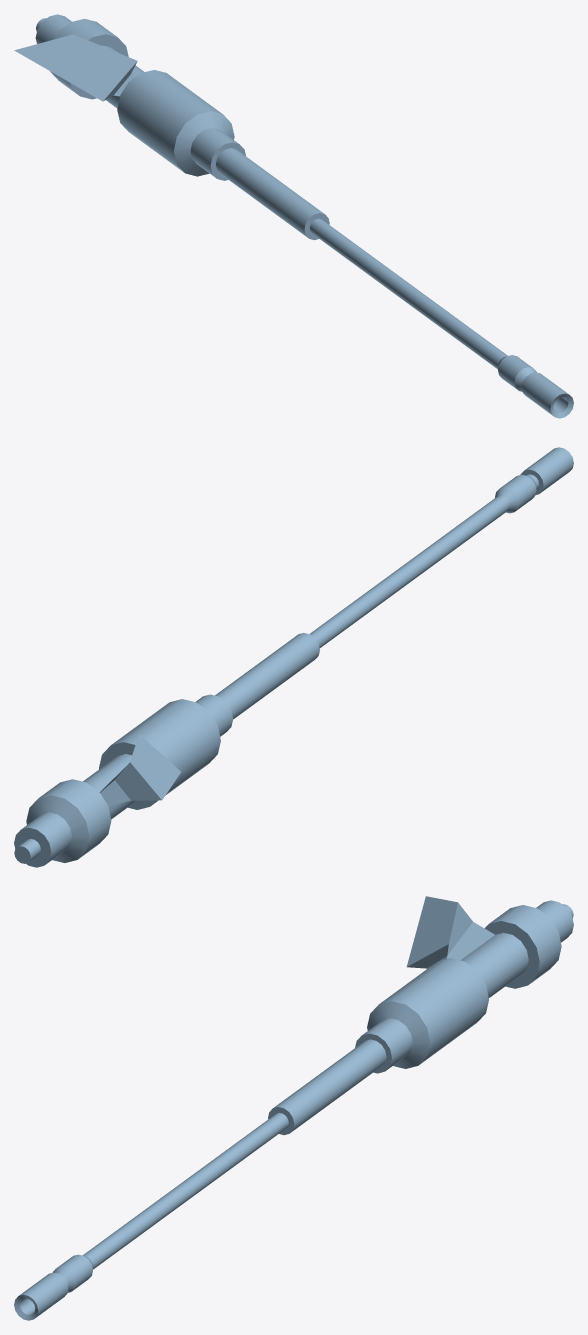
File: gun Dwn L.FBX
The picture shows the model from 3 angles, top to bottom: view 1: azimuth 30°, elevation 25°; view 2: azimuth 150°, elevation 25°; view 3: azimuth 330°, elevation 25°; orthographic projection. The views are drawn at different scales.
Visible parts, largest first — view 1: Cylinder02; view 2: Cylinder02; view 3: Cylinder02.
Boxes of the visible parts, left/top/right/bottom form: Cylinder02: left=14, top=14, right=573, bottom=418; Cylinder02: left=14, top=447, right=573, bottom=867; Cylinder02: left=14, top=896, right=573, bottom=1320.
Bounding box in the file's own units: 0.0204 × 0.1631 × 0.014.
